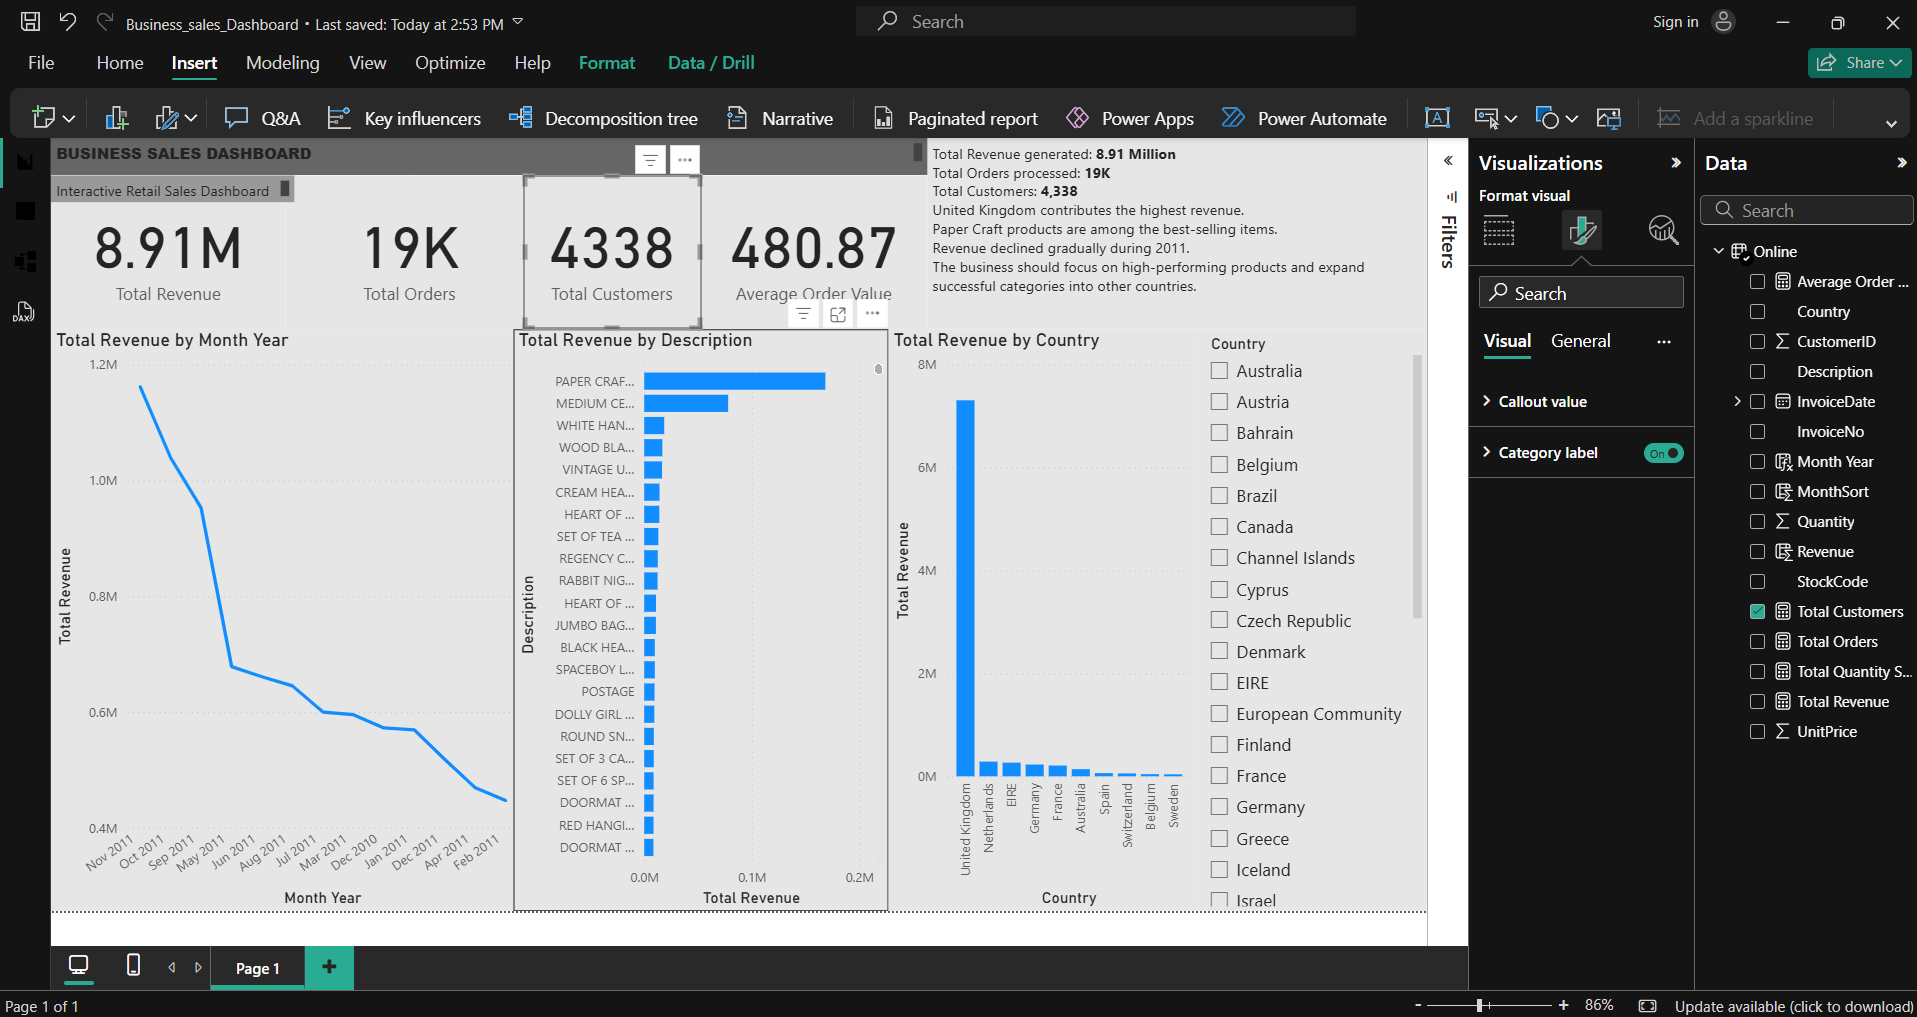

What the dashboard file says about the page in this screenshot:
{"tool":"powerbi","page":{"name":"Page 1","canvas":[1280,720],"ordinal":0},"visuals":[{"type":"card","fields":{"Values":["Online.Total Revenue"]},"box":[0,34.9,218.6,143],"z":0},{"type":"card","fields":{"Values":["Online.Total Orders"]},"box":[218.6,34.9,230.2,143],"z":1000},{"type":"card","fields":{"Values":["Online.Total Customers"]},"box":[439.5,34.9,165.1,143],"z":2000},{"type":"card","fields":{"Values":["Online.Average Order Value"]},"box":[604.7,34.9,210.5,143],"z":3000},{"type":"lineChart","fields":{"Category":["Online.Month Year"],"Y":["Online.Total Revenue"]},"box":[0,177.9,543,541.9],"z":4000},{"type":"clusteredBarChart","fields":{"Category":["Online.Description"],"Y":["Online.Total Revenue"]},"box":[543,234.9,380.2,484.9],"z":5000},{"type":"clusteredColumnChart","fields":{"Category":["Online.Country"],"Y":["Online.Total Revenue"]},"box":[923.3,234.9,357,484.9],"z":6000},{"type":"slicer","fields":{"Values":["Online.Country"]},"box":[815.1,0,168.6,234.9],"z":7000},{"type":"textbox","box":[983.7,0,296.5,234.9],"z":8000},{"type":"textbox","box":[0,0,815.1,34.3],"z":9000},{"type":"textbox","box":[0,34.9,226.7,24.4],"z":9001}]}

Visuals, with their boxes on the page's 1280x720 design canvas (x1, y1, x2, y2). These are canvas units, not pixel positions in the 1917x1017 screenshot, which may show the page scaled, cropped or inside an application window:
card - Online.Total Revenue: 0 35 219 178
card - Online.Total Orders: 219 35 449 178
card - Online.Total Customers: 440 35 605 178
card - Online.Average Order Value: 605 35 815 178
lineChart - Online.Month Year x Online.Total Revenue: 0 178 543 720
clusteredBarChart - Online.Description x Online.Total Revenue: 543 235 923 720
clusteredColumnChart - Online.Country x Online.Total Revenue: 923 235 1280 720
slicer - Online.Country: 815 0 984 235
textbox: 984 0 1280 235
textbox: 0 0 815 34
textbox: 0 35 227 59
